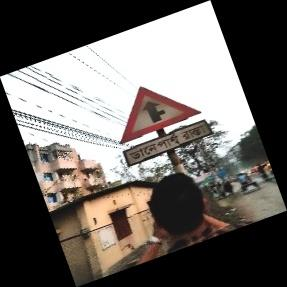Side-road-right: (117, 86, 210, 173)
